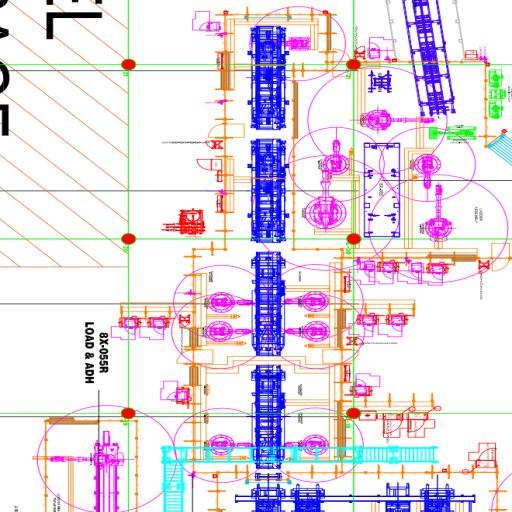robot: (305, 164, 348, 231), (42, 442, 131, 474), (357, 106, 437, 134), (200, 319, 257, 345), (201, 431, 254, 457), (202, 290, 257, 313), (278, 290, 332, 313), (410, 152, 442, 190), (282, 320, 330, 344), (279, 434, 330, 456)
